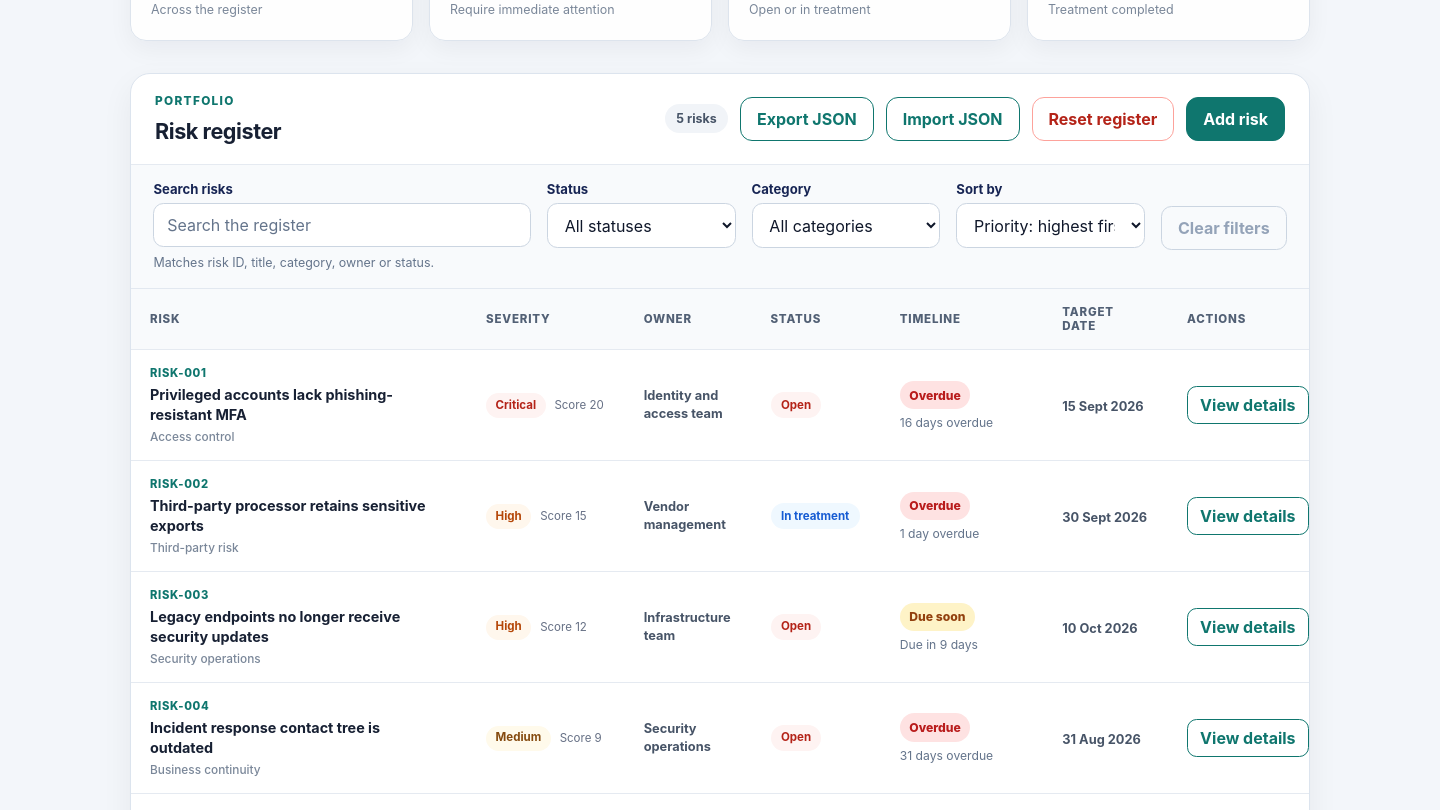
Scenario: App risk details › opens risk details and restores focus after closing
(page scrolled)
Click the button with aria-label "view details for risk-001". click: [1248, 405]
box: [1187,386,1309,424]
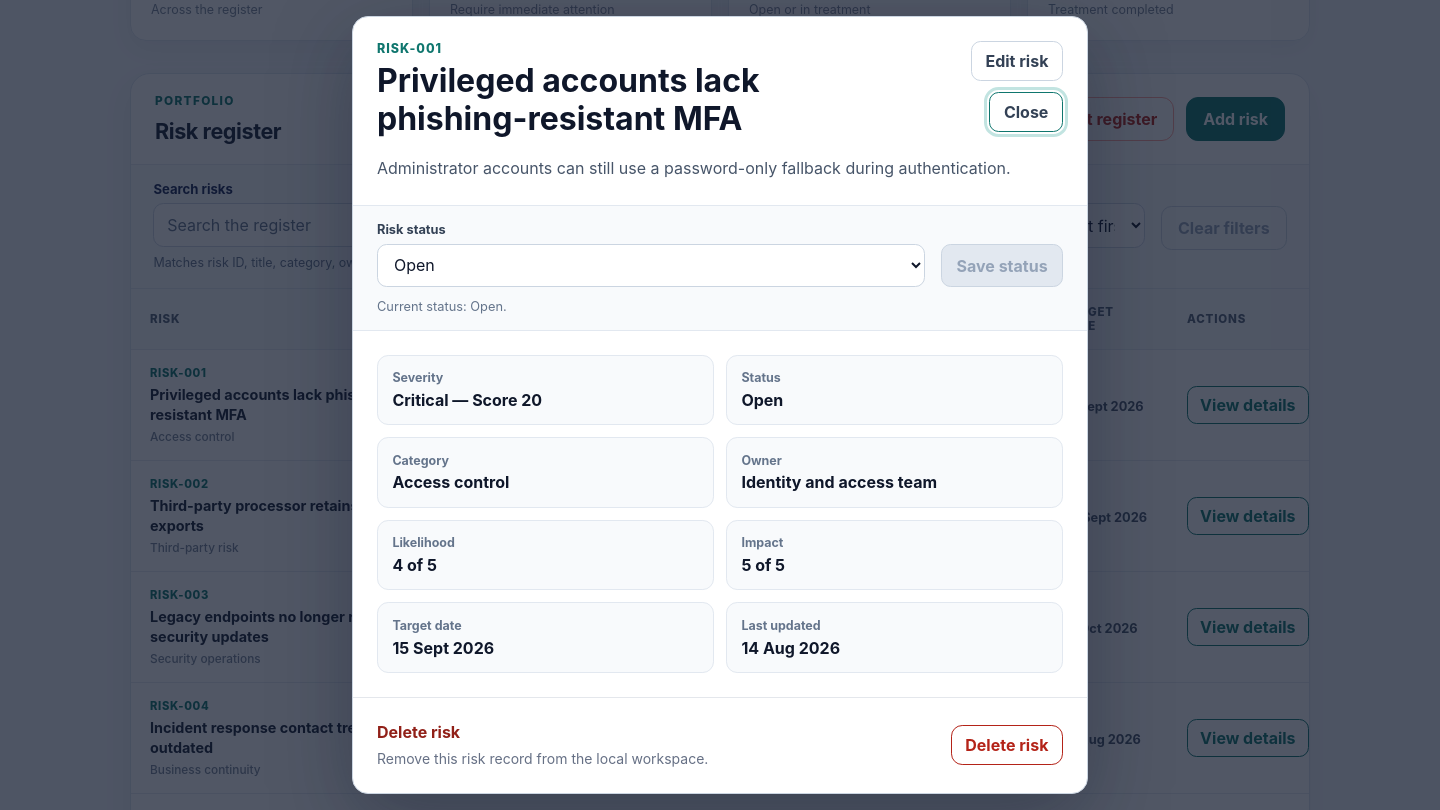
Check: the text "password-only fallback" is shown, box [377,158,1010,178]
Check: the text "Critical — Score 20" is shown, box [392,390,542,410]
Click the button "Close". click: [1026, 112]
box: [989,92,1063,132]
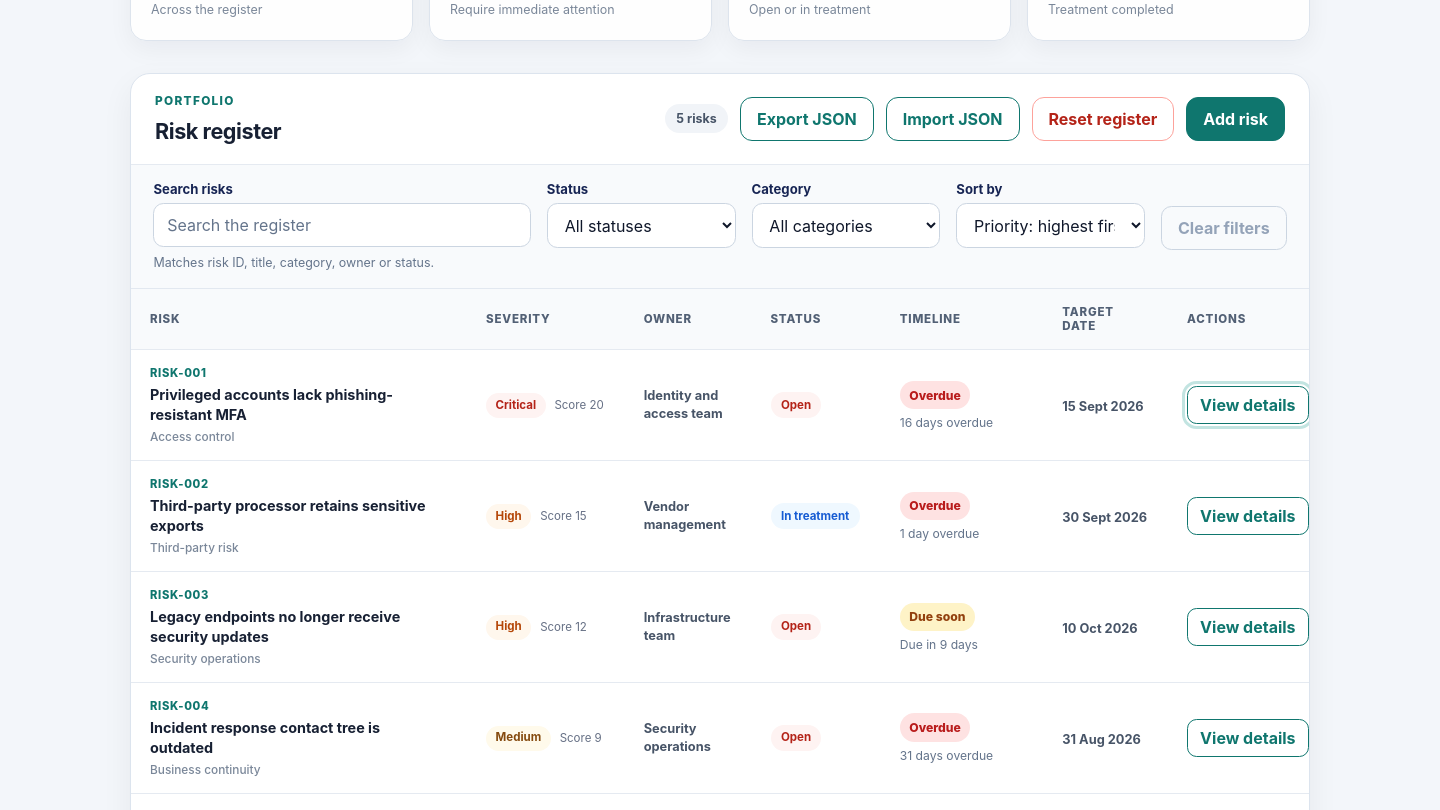
Check: the dialog is gone
